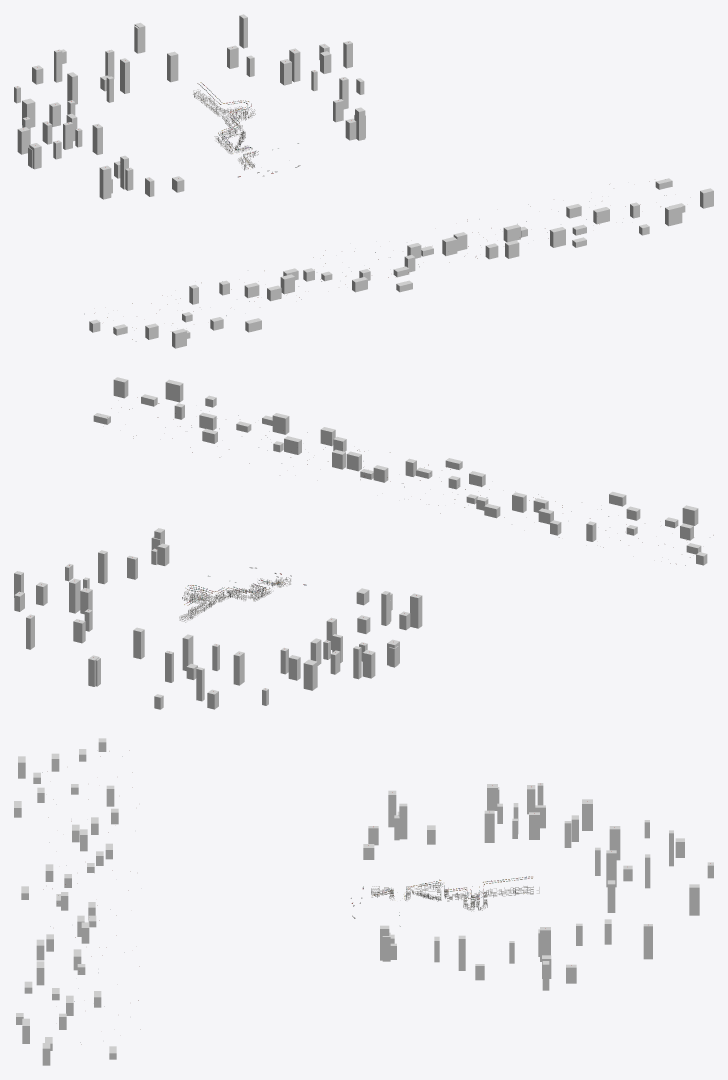
Rendered from city_d.glb.
3 renders of one model, top to bottom at view 1: azimuth 30°, elevation 25°; view 2: azimuth 150°, elevation 25°; view 3: azimuth 270°, elevation 25°, orthographic. The views are drawn at different scales.
Visible parts, largest first — view 1: SM_City_D_4_3, SM_City_D_1_11, SM_City_D_7_11, SM_City_D_1_10, SM_City_D_5_11, SM_City_D_1_8, SM_City_D_7_10, SM_City_D_3_11, SM_City_D_1_4, SM_City_D_1_9, SM_City_D_7_4; view 2: SM_City_D_4_3, SM_City_D_1_11, SM_City_D_7_11, SM_City_D_1_10, SM_City_D_5_11, SM_City_D_7_10, SM_City_D_3_11, SM_City_D_7_4, SM_City_D_1_8, SM_City_D_1_5, SM_City_D_2_11; view 3: SM_City_D_4_3, SM_City_D_1_11, SM_City_D_7_11, SM_City_D_1_10, SM_City_D_1_8, SM_City_D_5_11, SM_City_D_3_11, SM_City_D_7_4, SM_City_D_1_4.
Part boxes in pixels (<box>): SM_City_D_4_3: <box>84,170,713,348</box>; SM_City_D_1_11: <box>14,49,77,127</box>; SM_City_D_7_11: <box>227,14,352,76</box>; SM_City_D_1_10: <box>17,113,77,154</box>; SM_City_D_5_11: <box>134,22,178,82</box>; SM_City_D_1_8: <box>28,123,102,169</box>; SM_City_D_7_10: <box>280,48,300,85</box>; SM_City_D_3_11: <box>105,49,129,93</box>; SM_City_D_1_4: <box>99,165,154,199</box>; SM_City_D_1_9: <box>53,122,82,159</box>; SM_City_D_7_4: <box>345,107,365,140</box>; SM_City_D_4_3: <box>93,377,713,580</box>; SM_City_D_1_11: <box>196,647,317,709</box>; SM_City_D_7_11: <box>14,571,92,649</box>; SM_City_D_1_10: <box>310,638,375,679</box>; SM_City_D_5_11: <box>88,627,144,686</box>; SM_City_D_7_10: <box>69,578,92,614</box>; SM_City_D_3_11: <box>165,634,193,682</box>; SM_City_D_7_4: <box>151,528,169,565</box>; SM_City_D_1_8: <box>326,617,399,667</box>; SM_City_D_1_5: <box>381,591,410,630</box>; SM_City_D_2_11: <box>154,643,219,709</box>; SM_City_D_4_3: <box>14,738,362,1065</box>; SM_City_D_1_11: <box>564,799,684,866</box>; SM_City_D_7_11: <box>542,919,652,990</box>; SM_City_D_1_10: <box>527,783,545,839</box>; SM_City_D_1_8: <box>484,784,499,842</box>; SM_City_D_5_11: <box>607,880,699,915</box>; SM_City_D_3_11: <box>606,850,650,888</box>; SM_City_D_7_4: <box>380,925,396,961</box>; SM_City_D_1_4: <box>368,790,396,845</box>.
Size of the model in its own units: 2987 by 172 by 2783.
